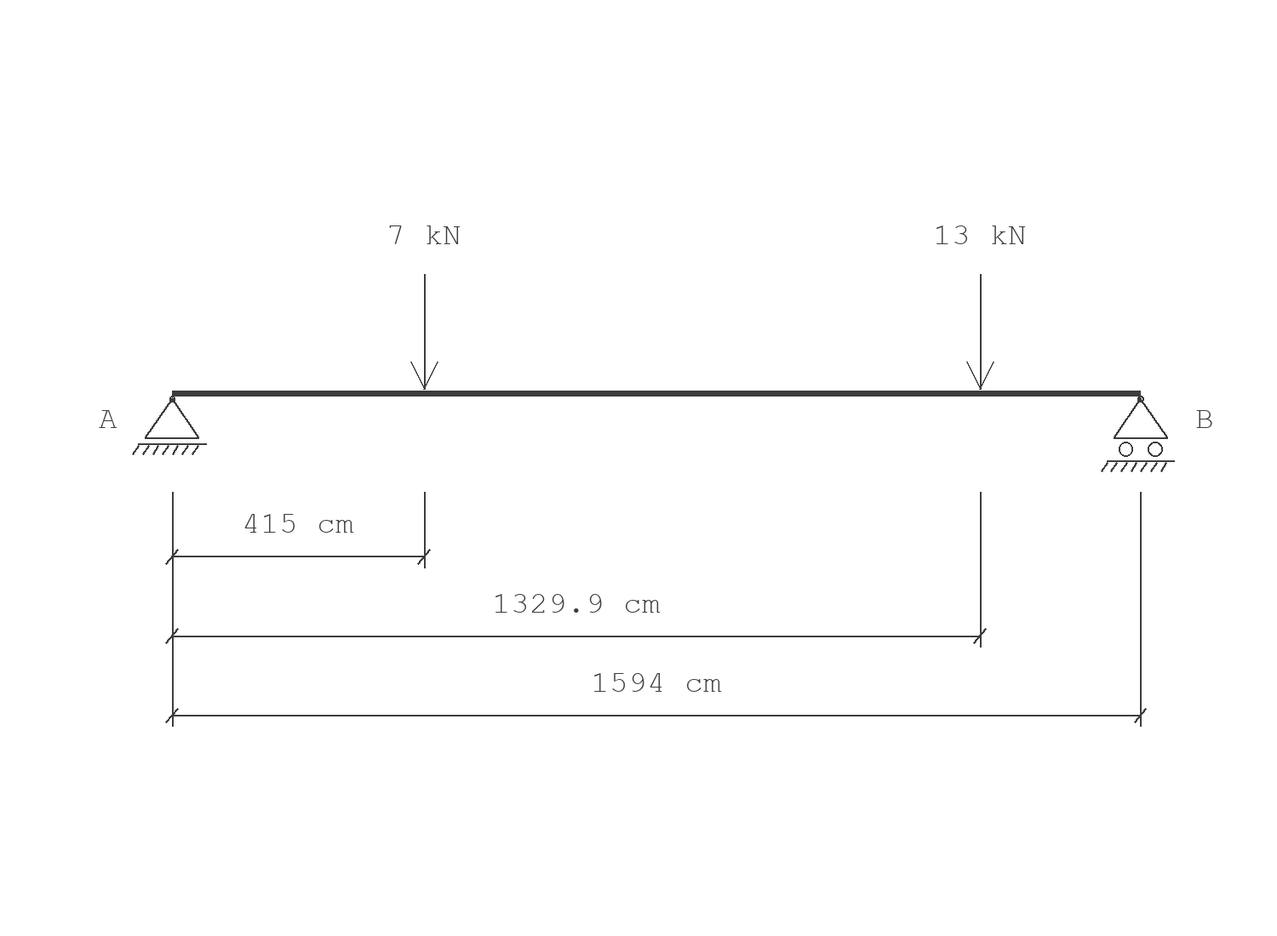pin_support: (132, 396, 207, 455)
point_load: (410, 274, 438, 390), (966, 274, 994, 390)
roller_support: (1101, 396, 1175, 472)
